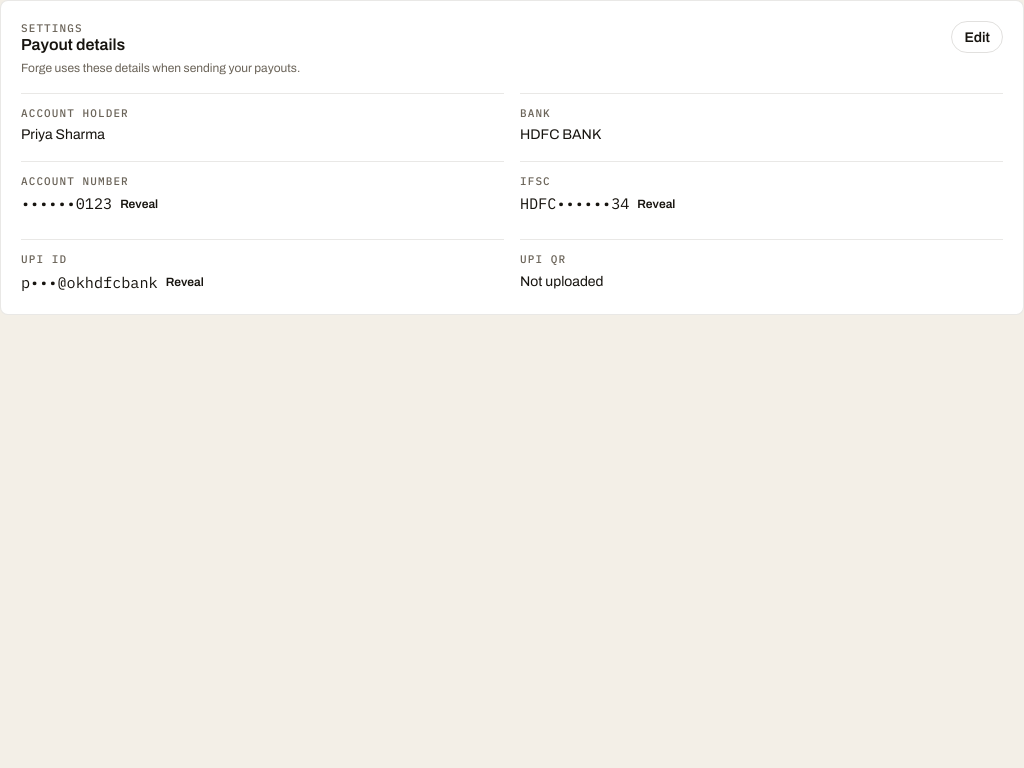
Scenario: PayoutSettingsPanel — save › saves successfully, shows a success toast, and returns to the updated view
The width and height of the screenshot is (1024, 768).
Click the button "Edit" at (977, 37), box [951,21,1003,53]
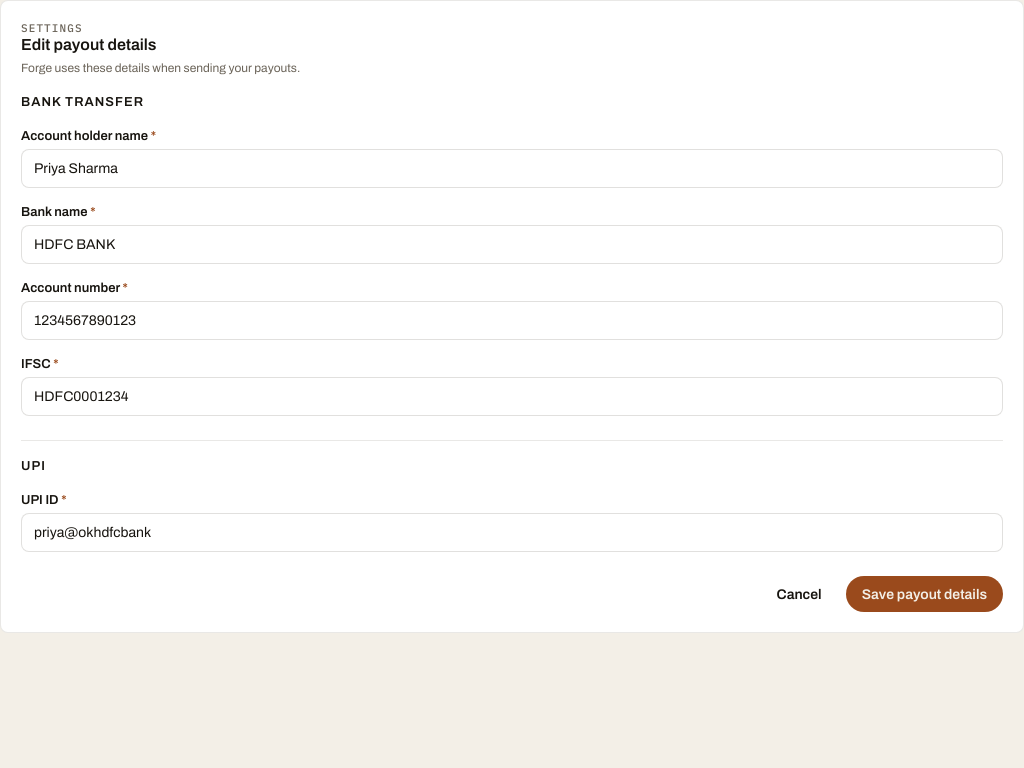
Replace the text in the field labelled "Account holder name *" with "Priya S. Sharma" at (512, 169), box [21,149,1003,188]
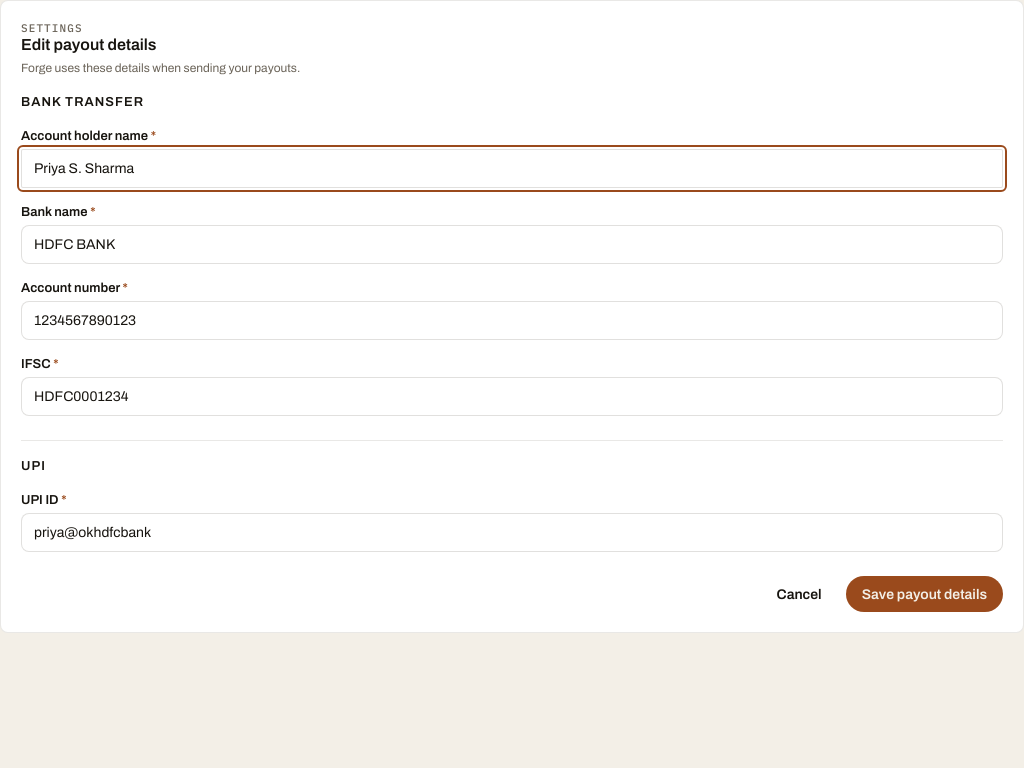
Click the button "Save payout details" at (924, 594), box [846,576,1003,612]
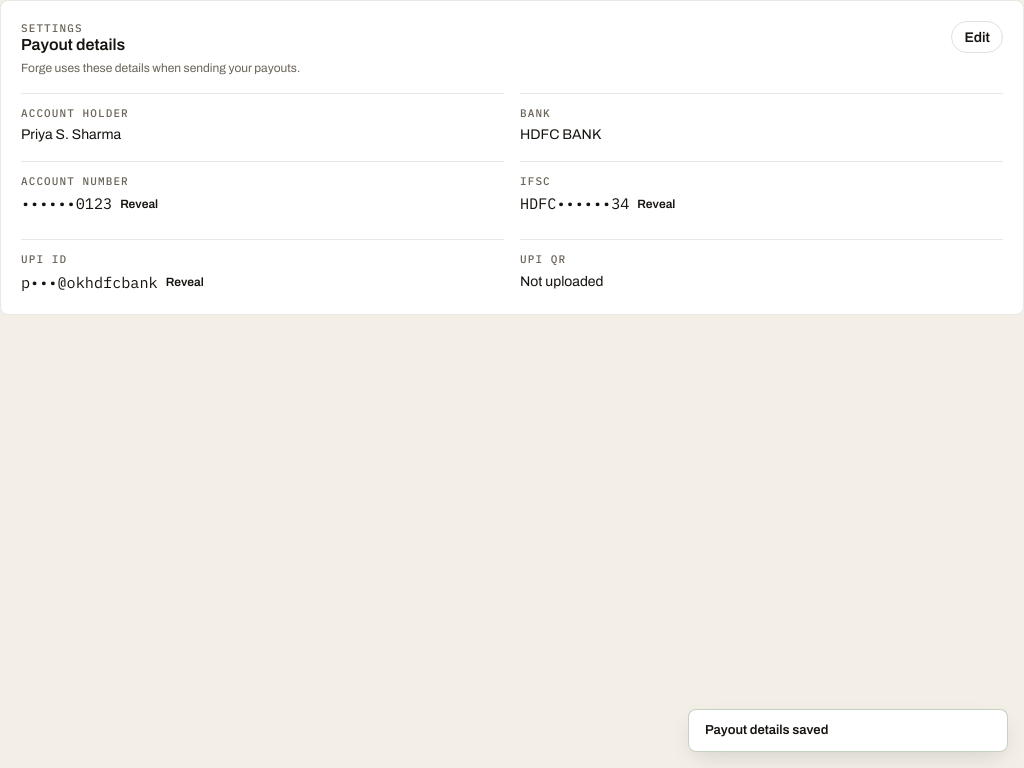
Expected: the text "Payout details saved" is shown, [705,723,828,737]
Expected: the text "Priya S. Sharma" is shown, [21,127,121,142]
Expected: the button labelled "Save payout details" is gone
